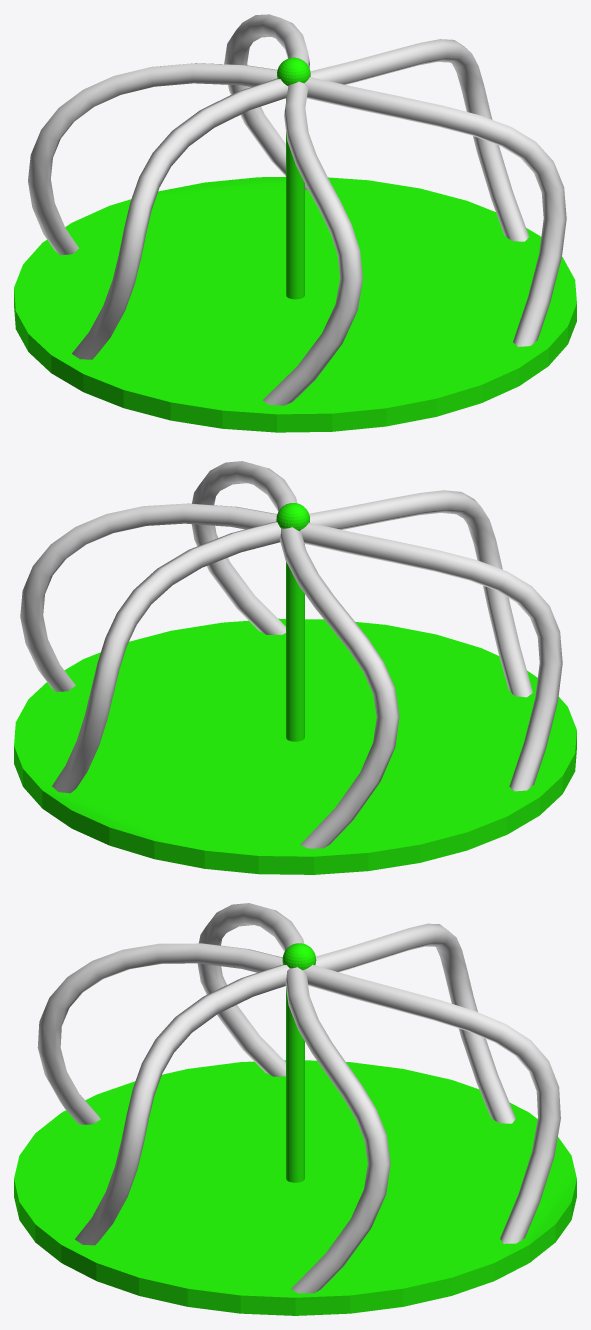
File: karozela.fbx
3 views of the same model, one above another, from view 1: azimuth 30°, elevation 25°; view 2: azimuth 150°, elevation 25°; view 3: azimuth 270°, elevation 25° (orthographic).
Visible parts, largest first — view 1: Sphere, BezierCurve.001, BezierCurve.002, BezierCurve.005, BezierCurve.004, BezierCurve, BezierCurve.003; view 2: Sphere, BezierCurve.005, BezierCurve.004, BezierCurve.003, BezierCurve, BezierCurve.002, BezierCurve.001; view 3: Sphere, BezierCurve.003, BezierCurve, BezierCurve.001, BezierCurve.002, BezierCurve.004, BezierCurve.005.
Part boxes in pixels (left/top/right/bottom): Sphere: left=14, top=57, right=576, bottom=432; BezierCurve.001: left=304, top=77, right=566, bottom=346; BezierCurve.002: left=262, top=81, right=362, bottom=405; BezierCurve.005: left=72, top=78, right=288, bottom=359; BezierCurve.004: left=28, top=63, right=277, bottom=255; BezierCurve: left=310, top=39, right=529, bottom=241; BezierCurve.003: left=224, top=14, right=309, bottom=189; Sphere: left=14, top=503, right=576, bottom=874; BezierCurve.005: left=300, top=522, right=562, bottom=791; BezierCurve.004: left=280, top=527, right=399, bottom=848; BezierCurve.003: left=52, top=521, right=280, bottom=793; BezierCurve: left=20, top=503, right=277, bottom=691; BezierCurve.002: left=309, top=490, right=532, bottom=697; BezierCurve.001: left=191, top=461, right=297, bottom=634; Sphere: left=14, top=943, right=576, bottom=1315; BezierCurve.003: left=303, top=964, right=560, bottom=1243; BezierCurve: left=285, top=967, right=390, bottom=1293; BezierCurve.001: left=75, top=964, right=289, bottom=1245; BezierCurve.002: left=37, top=943, right=282, bottom=1124; BezierCurve.004: left=315, top=923, right=515, bottom=1123; BezierCurve.005: left=197, top=903, right=304, bottom=1076.
Bounding box in the file's own units: 314 × 176 × 314.
Materials: 1 (1 with a texture image).
